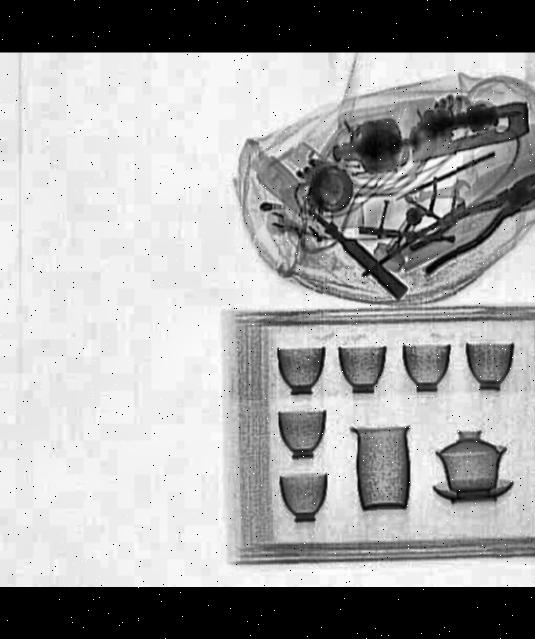Pliers: (403, 154, 535, 277)
